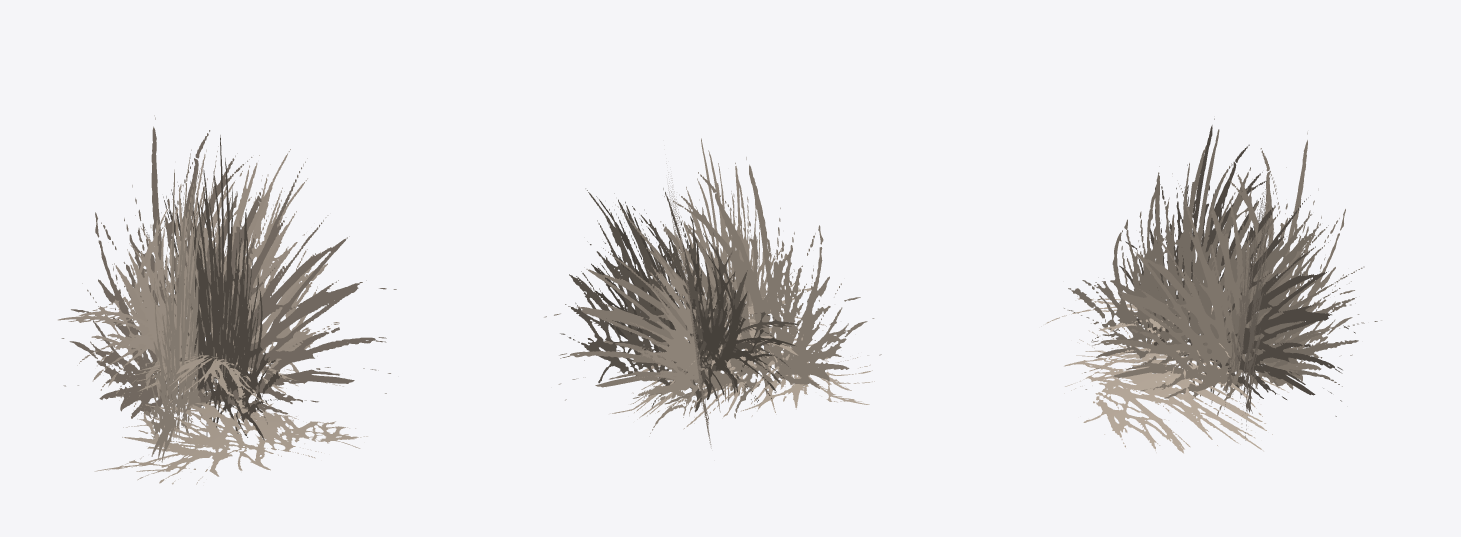
Rendered from Basic_Grass_22_textured.glb.
3 renders of one model, left to right at view 1: azimuth 30°, elevation 25°; view 2: azimuth 150°, elevation 25°; view 3: azimuth 270°, elevation 25°, orthographic. The views are drawn at different scales.
Visible parts, largest first — view 1: Basic_Grass_22; view 2: Basic_Grass_22; view 3: Basic_Grass_22.
Boxes of the visible parts, x1,y1,x2,y2 form: Basic_Grass_22: (58,115,396,484); Basic_Grass_22: (544,138,881,448); Basic_Grass_22: (1041,118,1381,453).
Bounding box in the file's own units: 19.24 × 18.89 × 21.38.
Materials: 1 (1 with a texture image).
